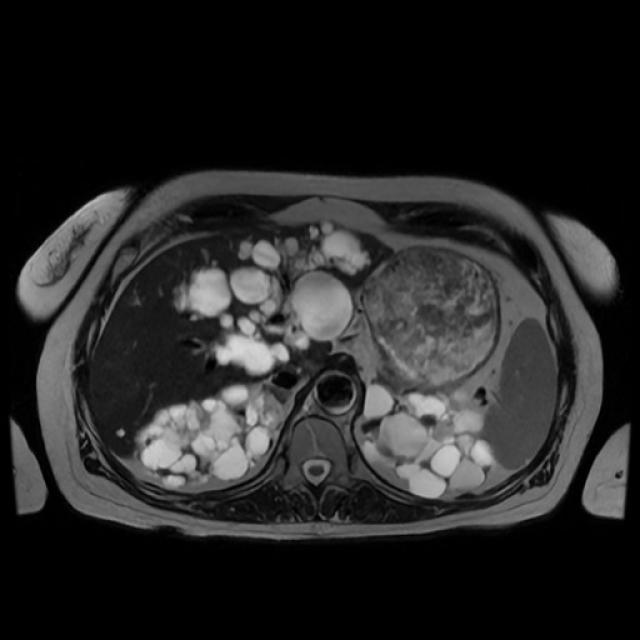sag: (135, 381, 285, 488)
sol: (360, 383, 497, 498)
